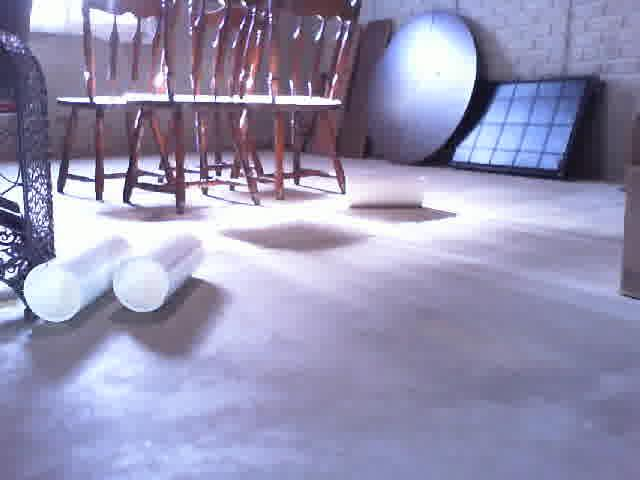coral: (25, 236, 135, 320), (115, 233, 207, 311), (351, 181, 422, 207)
